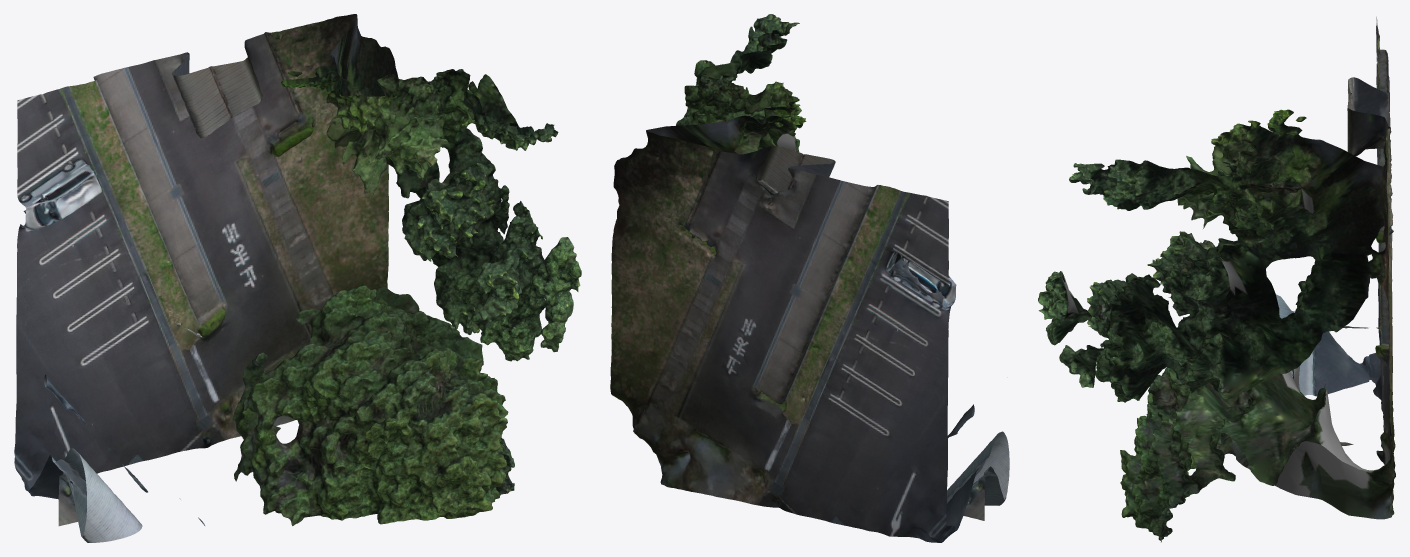
The model's file is Tile_+020_+018.fbx.
The picture shows the model from 3 angles, left to right: view 1: azimuth 30°, elevation 25°; view 2: azimuth 150°, elevation 25°; view 3: azimuth 270°, elevation 25°; orthographic projection. The views are drawn at different scales.
Parts seen in each view (by area): view 1: DefaultName; view 2: DefaultName; view 3: DefaultName.
Part boxes in pixels (x1=…): DefaultName: x1=14, y1=14, x2=581, y2=542; DefaultName: x1=610, y1=14, x2=1009, y2=542; DefaultName: x1=1038, y1=16, x2=1395, y2=542.
Size of the model in its own units: 22.54 by 22.54 by 20.27.
